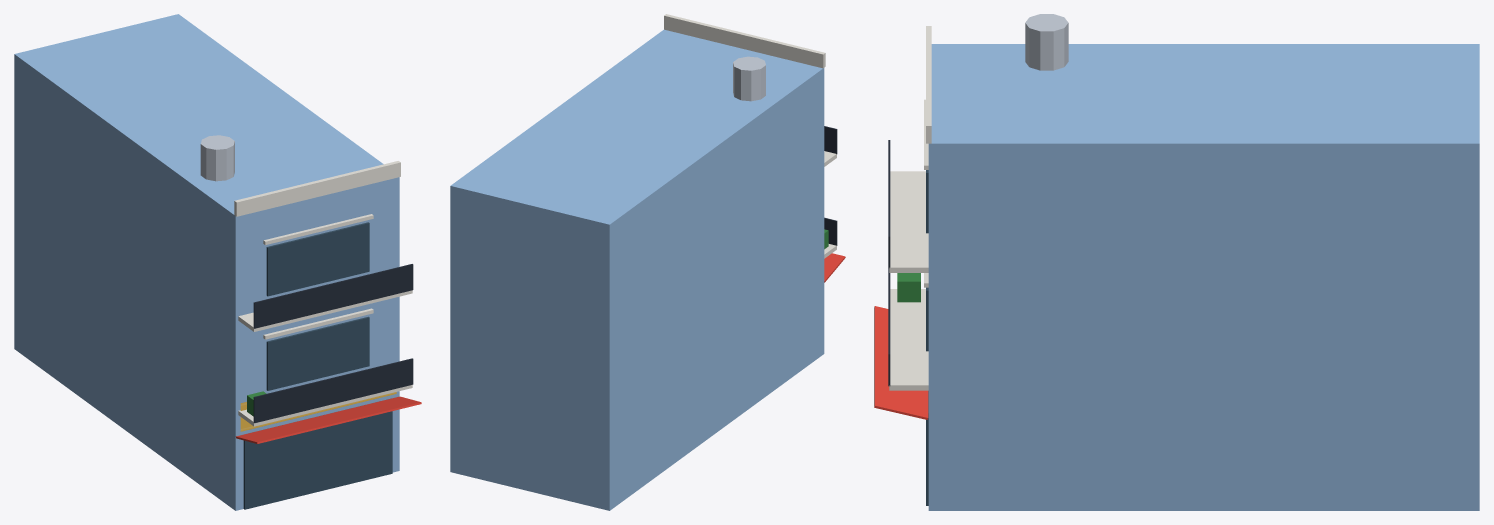
The model's file is shophouse_a.glb.
3 renders of one model, left to right at view 1: azimuth 30°, elevation 25°; view 2: azimuth 150°, elevation 25°; view 3: azimuth 270°, elevation 25°, orthographic. The views are drawn at different scales.
Visible parts, largest first — view 1: shophouse; view 2: shophouse; view 3: shophouse.
Part boxes in pixels (x1,y1,x2,y2): shophouse: (14,14,421,510); shophouse: (450,14,845,510); shophouse: (874,14,1479,510).
Bounding box in the file's own units: 6 × 11.4 × 15.39.
Materials: 8 (1 with a texture image).
